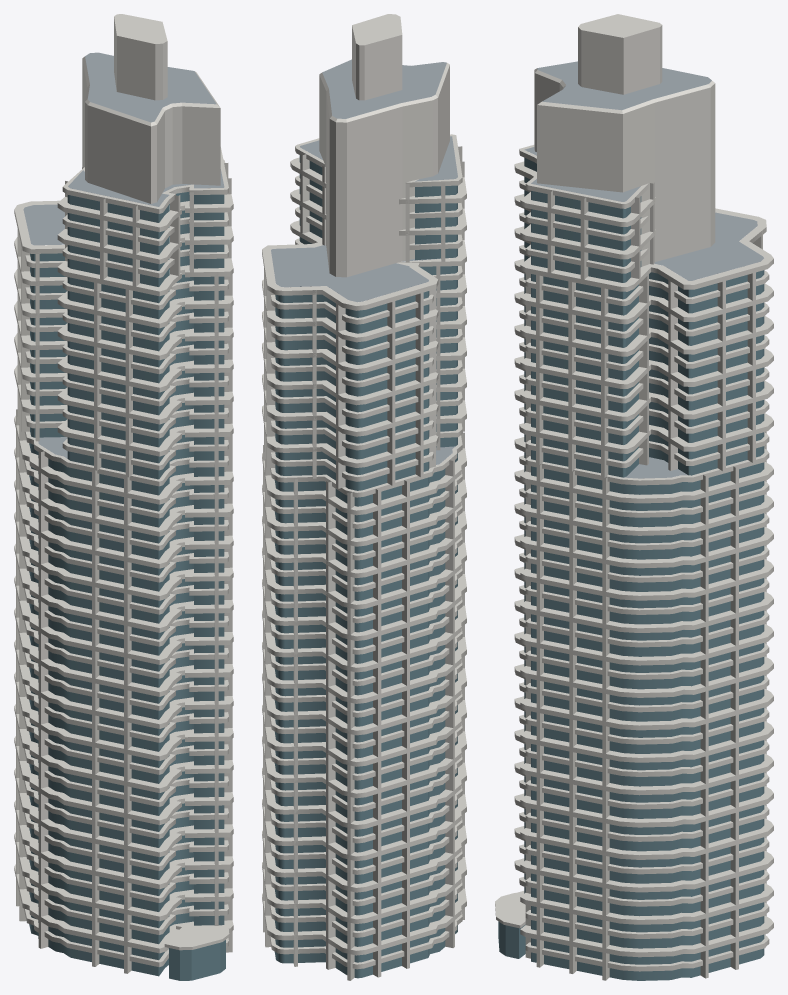
Rendered from frankfurt-grand-tower.detail.glb.
The picture shows the model from 3 angles, left to right: view 1: azimuth 30°, elevation 25°; view 2: azimuth 150°, elevation 25°; view 3: azimuth 270°, elevation 25°; orthographic projection. The views are drawn at different scales.
Parts seen in each view (by area): view 1: Grand Tower; view 2: Grand Tower; view 3: Grand Tower.
Part boxes in pixels (x1,y1,x2,y2): Grand Tower: (14, 14, 233, 980); Grand Tower: (262, 14, 466, 980); Grand Tower: (495, 14, 773, 980).
Size of the model in its own units: 36.9 by 180 by 49.7.
